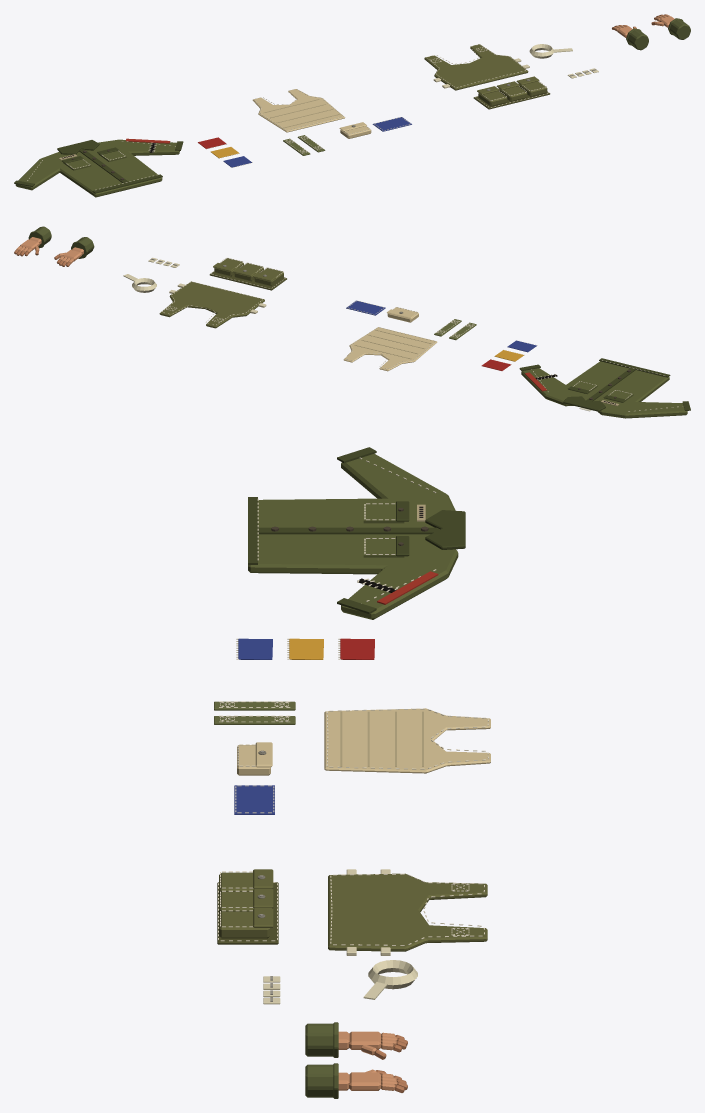
File: sewing_parts.glb
The picture shows the model from 3 angles, top to bottom: view 1: azimuth 30°, elevation 25°; view 2: azimuth 150°, elevation 25°; view 3: azimuth 270°, elevation 25°; orthographic projection. The views are drawn at different scales.
Visible parts, largest first — view 1: Jacket_Field, RigB_Body, RigA_Body, RigB_Pouches, Hand_L, Hand_R, RigA_Pocket, RigB_Webbing, RigA_Patch; view 2: Jacket_Field, RigB_Body, RigA_Body, RigB_Pouches, Hand_R, Hand_L, RigB_Webbing, RigA_Pocket, RigA_Patch; view 3: Jacket_Field, RigB_Body, RigA_Body, RigB_Pouches, Hand_R, Hand_L, RigB_Webbing, RigA_Patch, RigA_Pocket.
Boxes of the visible parts, x1,y1,x2,y2 form: Jacket_Field: [14, 138, 183, 197]; RigB_Body: [424, 44, 529, 90]; RigA_Body: [252, 89, 345, 132]; RigB_Pouches: [473, 76, 550, 109]; Hand_L: [651, 14, 690, 39]; Hand_R: [612, 25, 648, 50]; RigA_Pocket: [339, 122, 371, 138]; RigB_Webbing: [529, 44, 572, 58]; RigA_Patch: [372, 117, 411, 131]; Jacket_Field: [519, 358, 690, 418]; RigB_Body: [159, 281, 266, 328]; RigA_Body: [343, 327, 437, 371]; RigB_Pouches: [209, 257, 286, 290]; Hand_R: [54, 237, 94, 266]; Hand_L: [14, 226, 51, 256]; RigB_Webbing: [123, 274, 156, 292]; RigA_Pocket: [387, 307, 418, 322]; RigA_Patch: [346, 300, 385, 315]; Jacket_Field: [248, 447, 465, 619]; RigB_Body: [328, 869, 487, 955]; RigA_Body: [324, 708, 490, 773]; RigB_Pouches: [217, 869, 278, 944]; Hand_R: [305, 1022, 407, 1059]; Hand_L: [305, 1063, 407, 1098]; RigB_Webbing: [363, 960, 417, 999]; RigA_Patch: [234, 785, 274, 814]; RigA_Pocket: [237, 742, 272, 775].
Size of the model in its own units: 4.5 by 0.1097 by 0.815.
